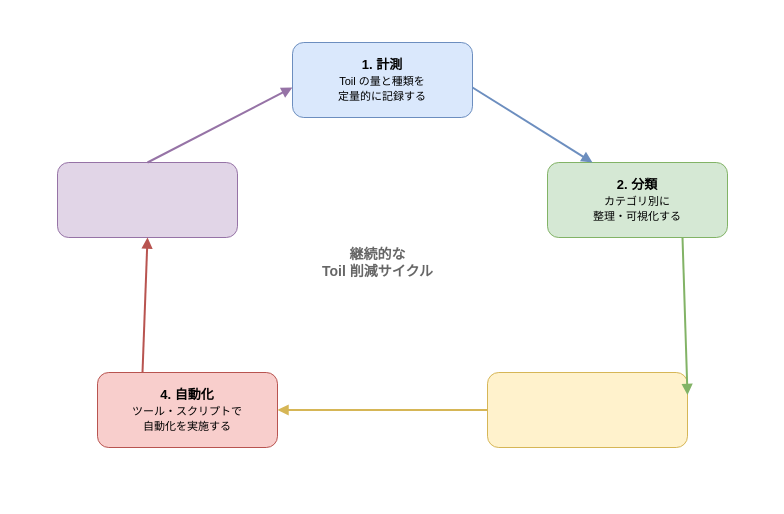
Image size: 784x514. Some labels were removed from this diagram. The centre of each missing label's shape, as x and y in pixels:
3. 優先順位付け ROI を基に 自動化対象を選定する: the point at 587,410
5. 検証 削減効果を 計測・評価する: the point at 147,200
